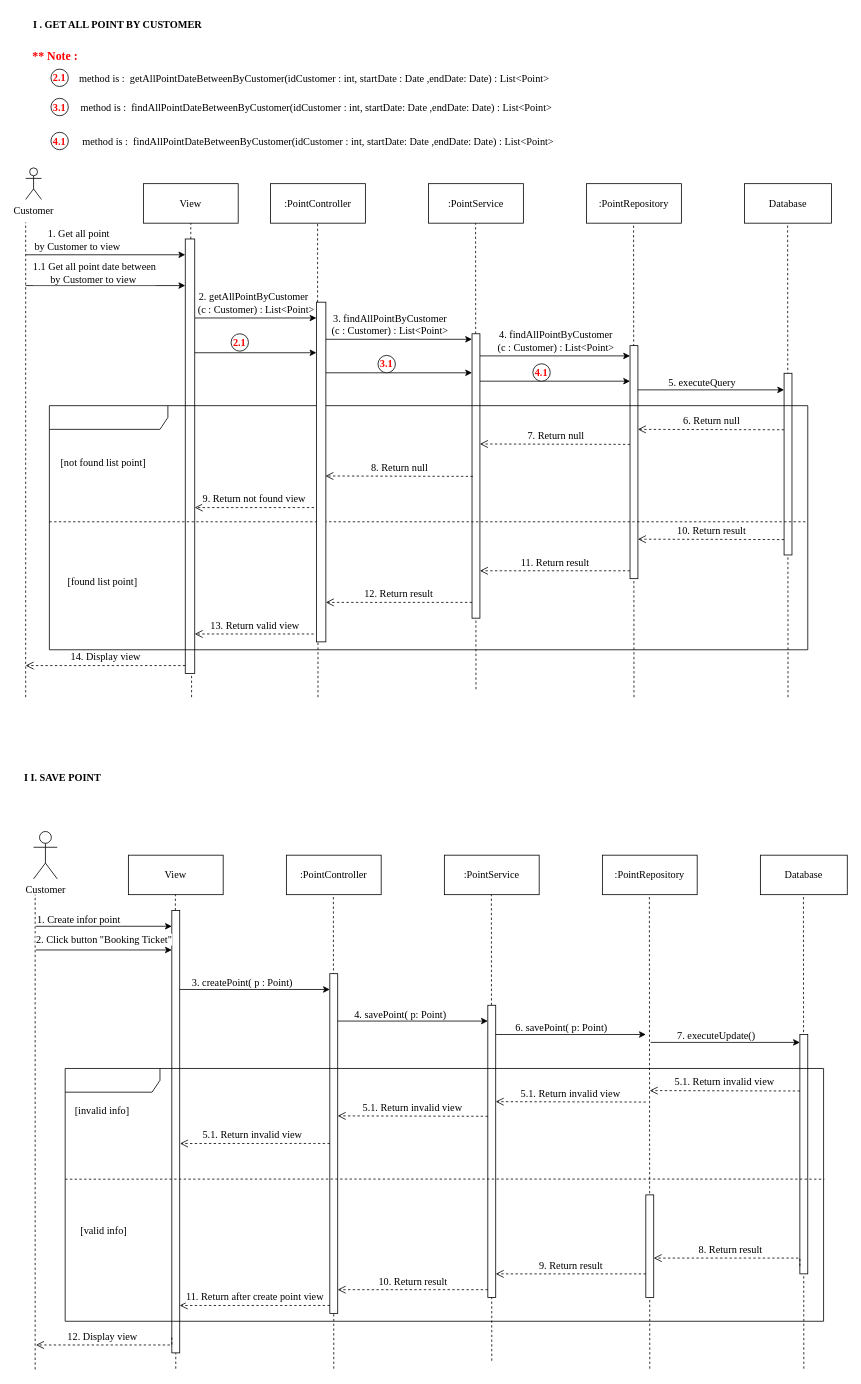
The diagram is 861 pixels wide and 1384 high, and some of its shapes have lost their labels. The shapes that lost their labels are listed below. From the top down, each one's box as (x1, y1, x2, y2) in pixels, then its label:
(49, 405, 808, 650): Find All Point By Customer
(64, 1068, 824, 1321): alt infor point
